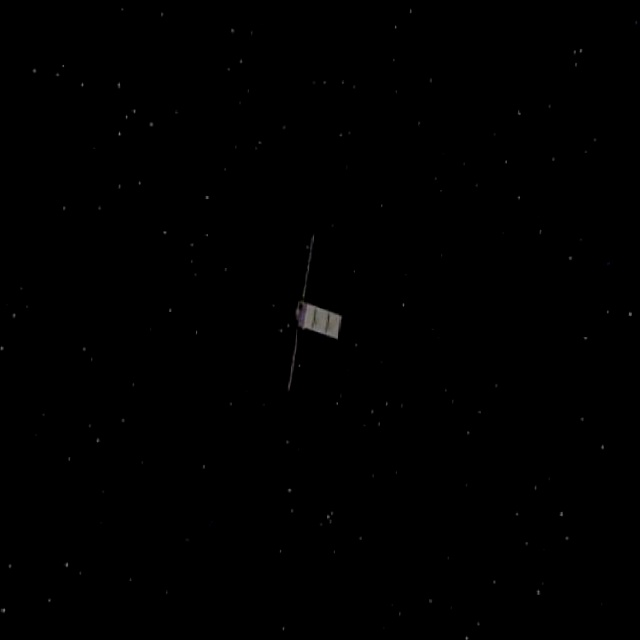satellite: (256, 233, 366, 403)
